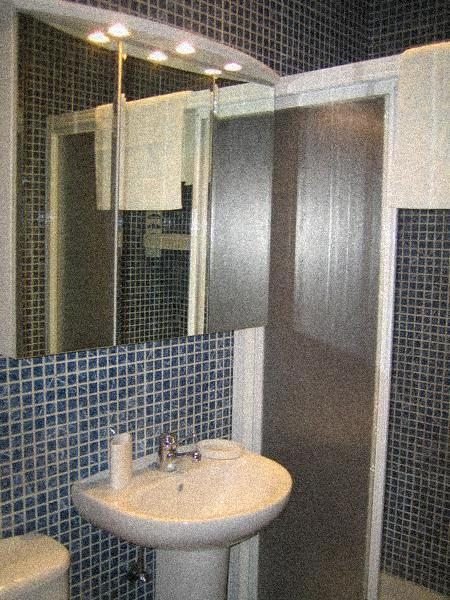Ducha: (234, 57, 438, 594)
Lavamanos: (73, 410, 317, 596)
